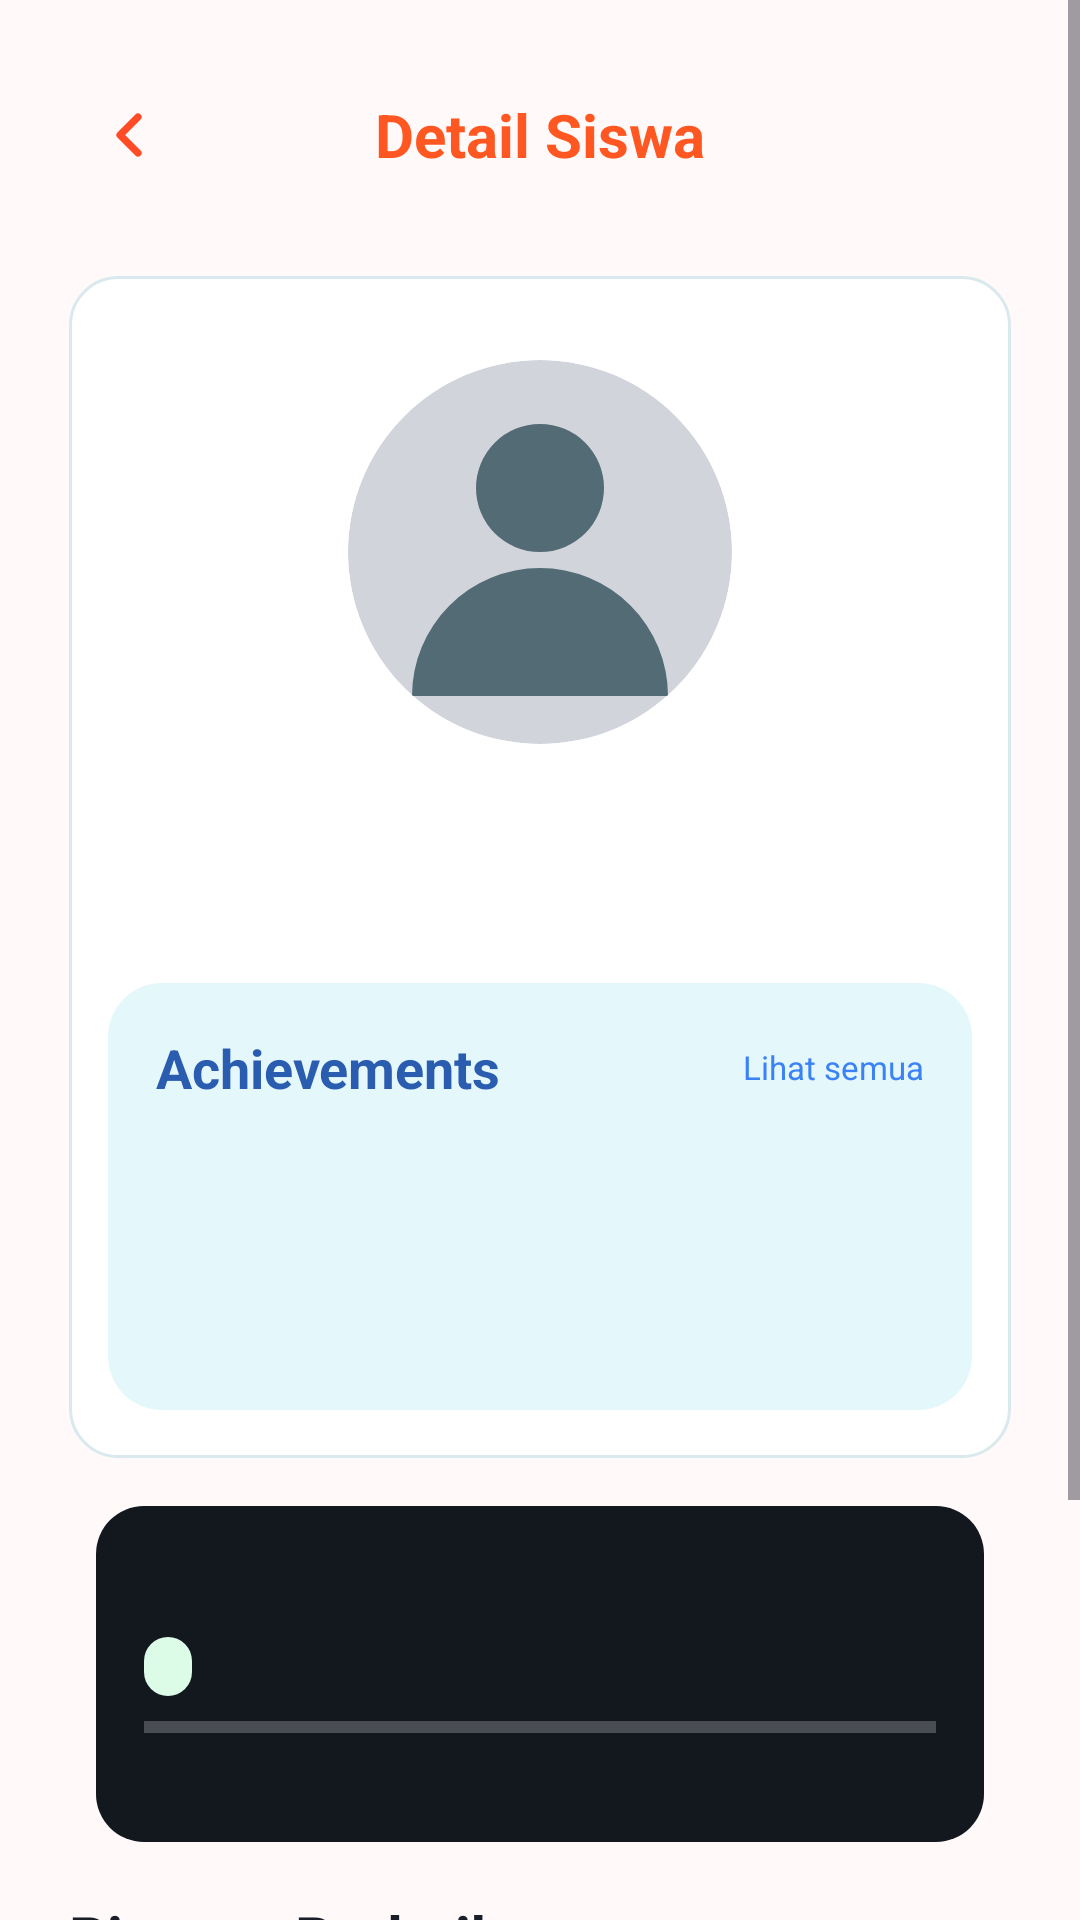

Named icons in this screenshot (1080 × 1920) and their bounding boxes, (x1, y1, x2, y2):
Kembali: (116, 113, 142, 157)
